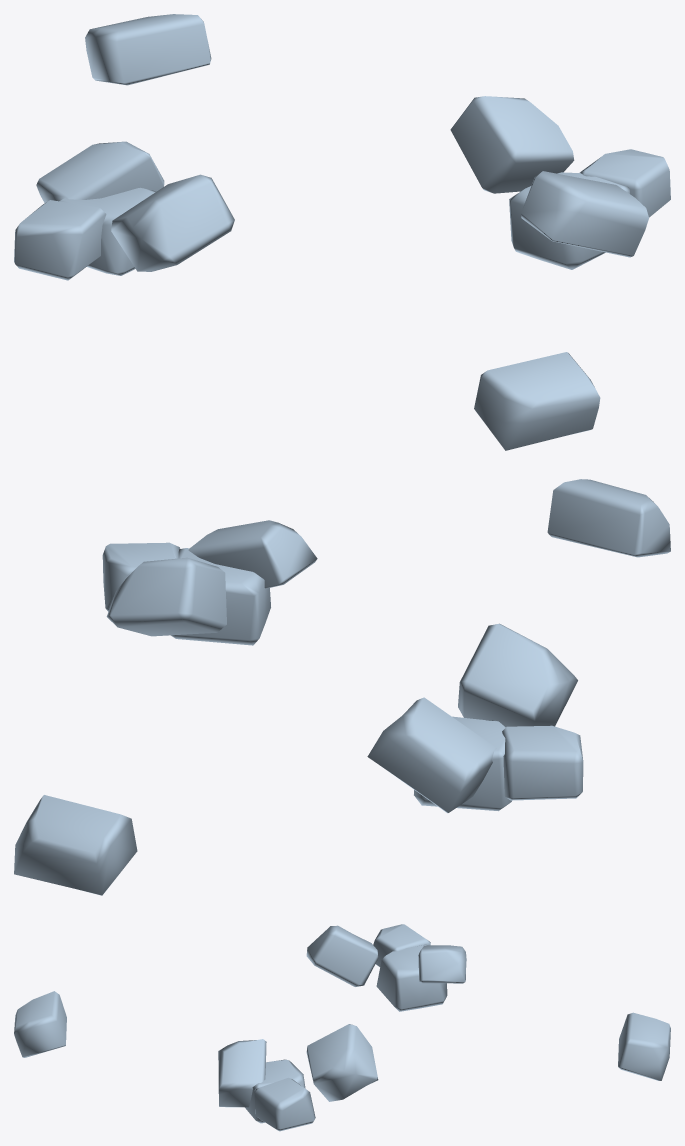
File: Rubble_02C_Lod0.fbx
3 views of the same model, one above another, from view 1: azimuth 30°, elevation 25°; view 2: azimuth 150°, elevation 25°; view 3: azimuth 270°, elevation 25° (orthographic). The views are drawn at different scales.
Visible parts, largest first — view 1: Rubble_02C_Lod0; view 2: Rubble_02C_Lod0; view 3: Rubble_02C_Lod0.
Part boxes in pixels (box(x1,y1,x2,y2)): Rubble_02C_Lod0: box(14, 14, 670, 450); Rubble_02C_Lod0: box(14, 479, 670, 895); Rubble_02C_Lod0: box(14, 924, 670, 1131).
Size of the model in its own units: 265 by 54.26 by 407.
